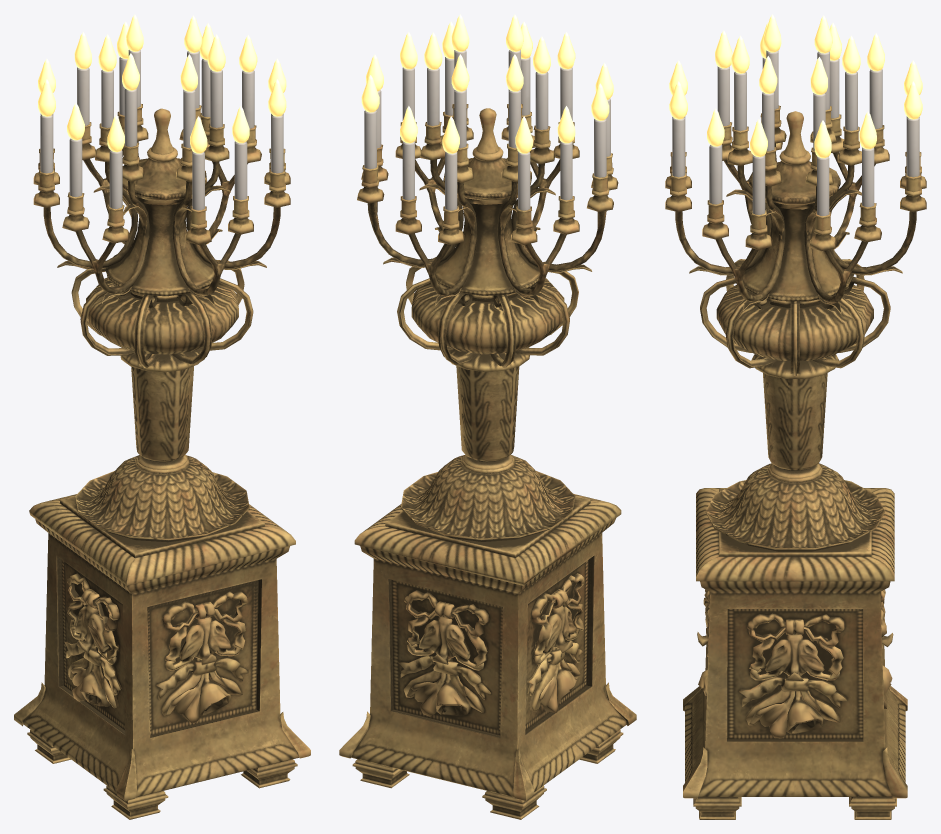
Rendered from titanic_lamp.glb.
3 renders of one model, left to right at view 1: azimuth 30°, elevation 25°; view 2: azimuth 150°, elevation 25°; view 3: azimuth 270°, elevation 25°, orthographic.
Parts seen in each view (by area): view 1: Cube.256_Lamp_0, Cube.256_Emission_0; view 2: Cube.256_Lamp_0, Cube.256_Emission_0; view 3: Cube.256_Lamp_0, Cube.256_Emission_0.
Part boxes in pixels (x1=…): Cube.256_Lamp_0: x1=14, y1=50, x2=310, y2=819; Cube.256_Emission_0: x1=38, y1=14, x2=286, y2=153; Cube.256_Lamp_0: x1=339, y1=50, x2=636, y2=819; Cube.256_Emission_0: x1=361, y1=14, x2=613, y2=153; Cube.256_Lamp_0: x1=665, y1=50, x2=926, y2=819; Cube.256_Emission_0: x1=669, y1=14, x2=922, y2=158.
Size of the model in its own units: 34.38 by 107 by 33.99.
Materials: 2 (1 with a texture image).
